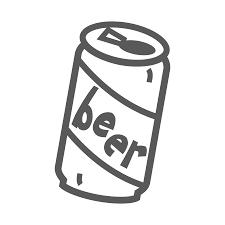beer: (54, 22, 170, 204)
